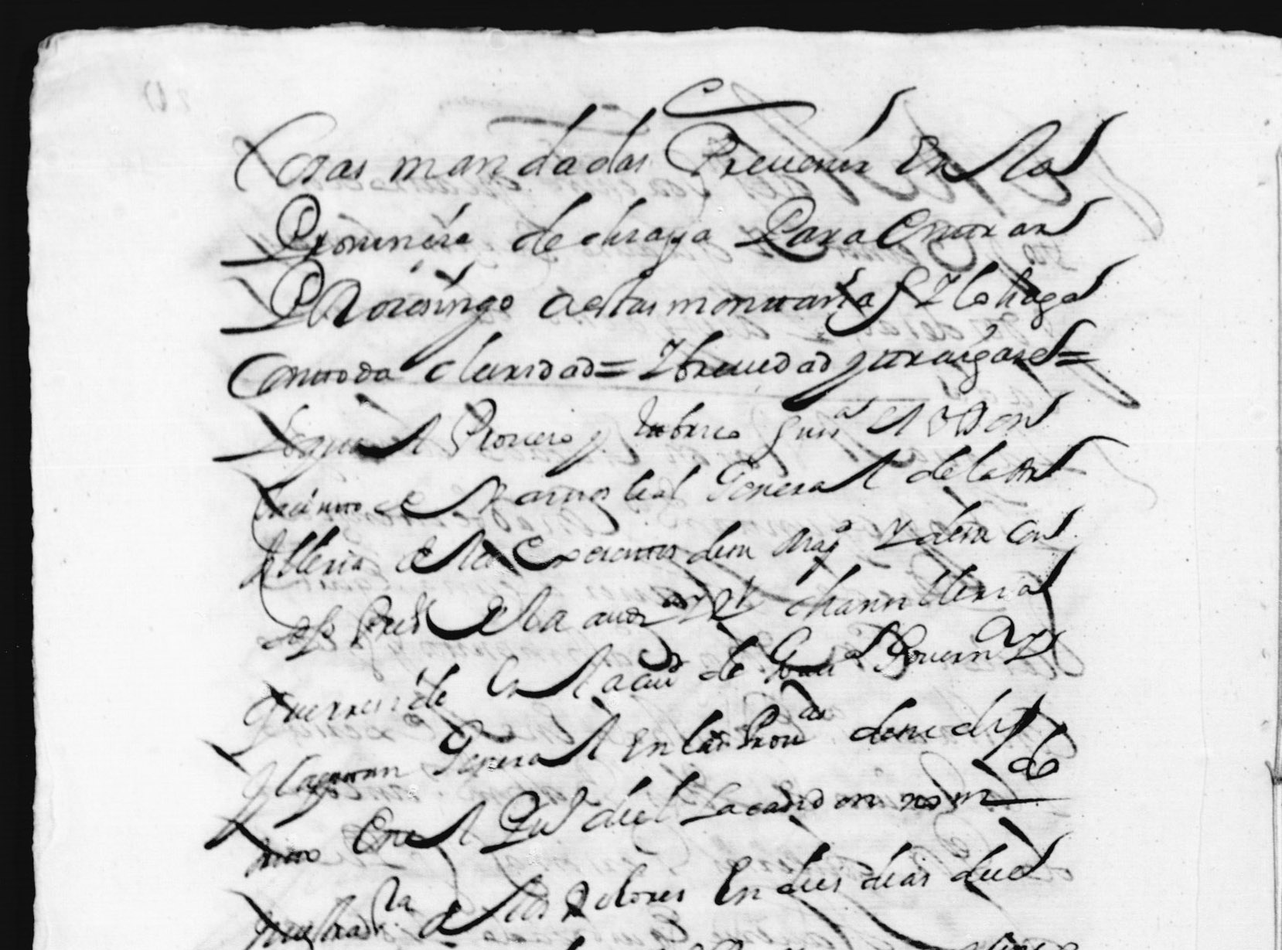lacandon: (679, 782, 882, 826)
